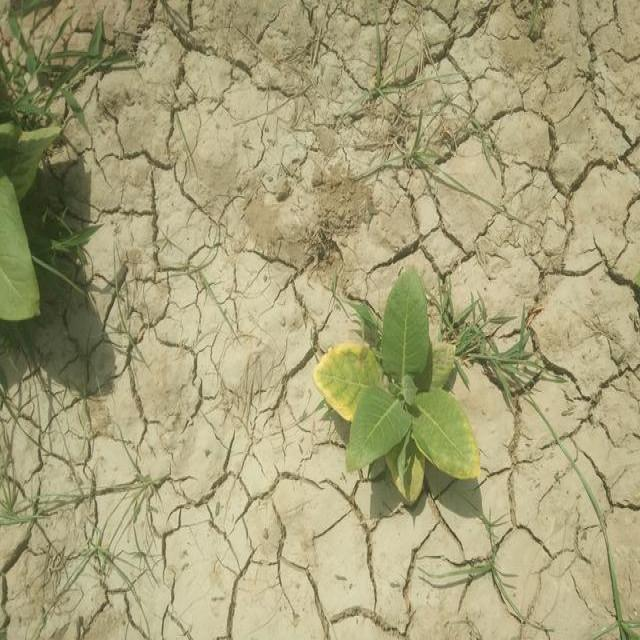crop: (328, 274, 486, 502), (0, 102, 53, 326)
